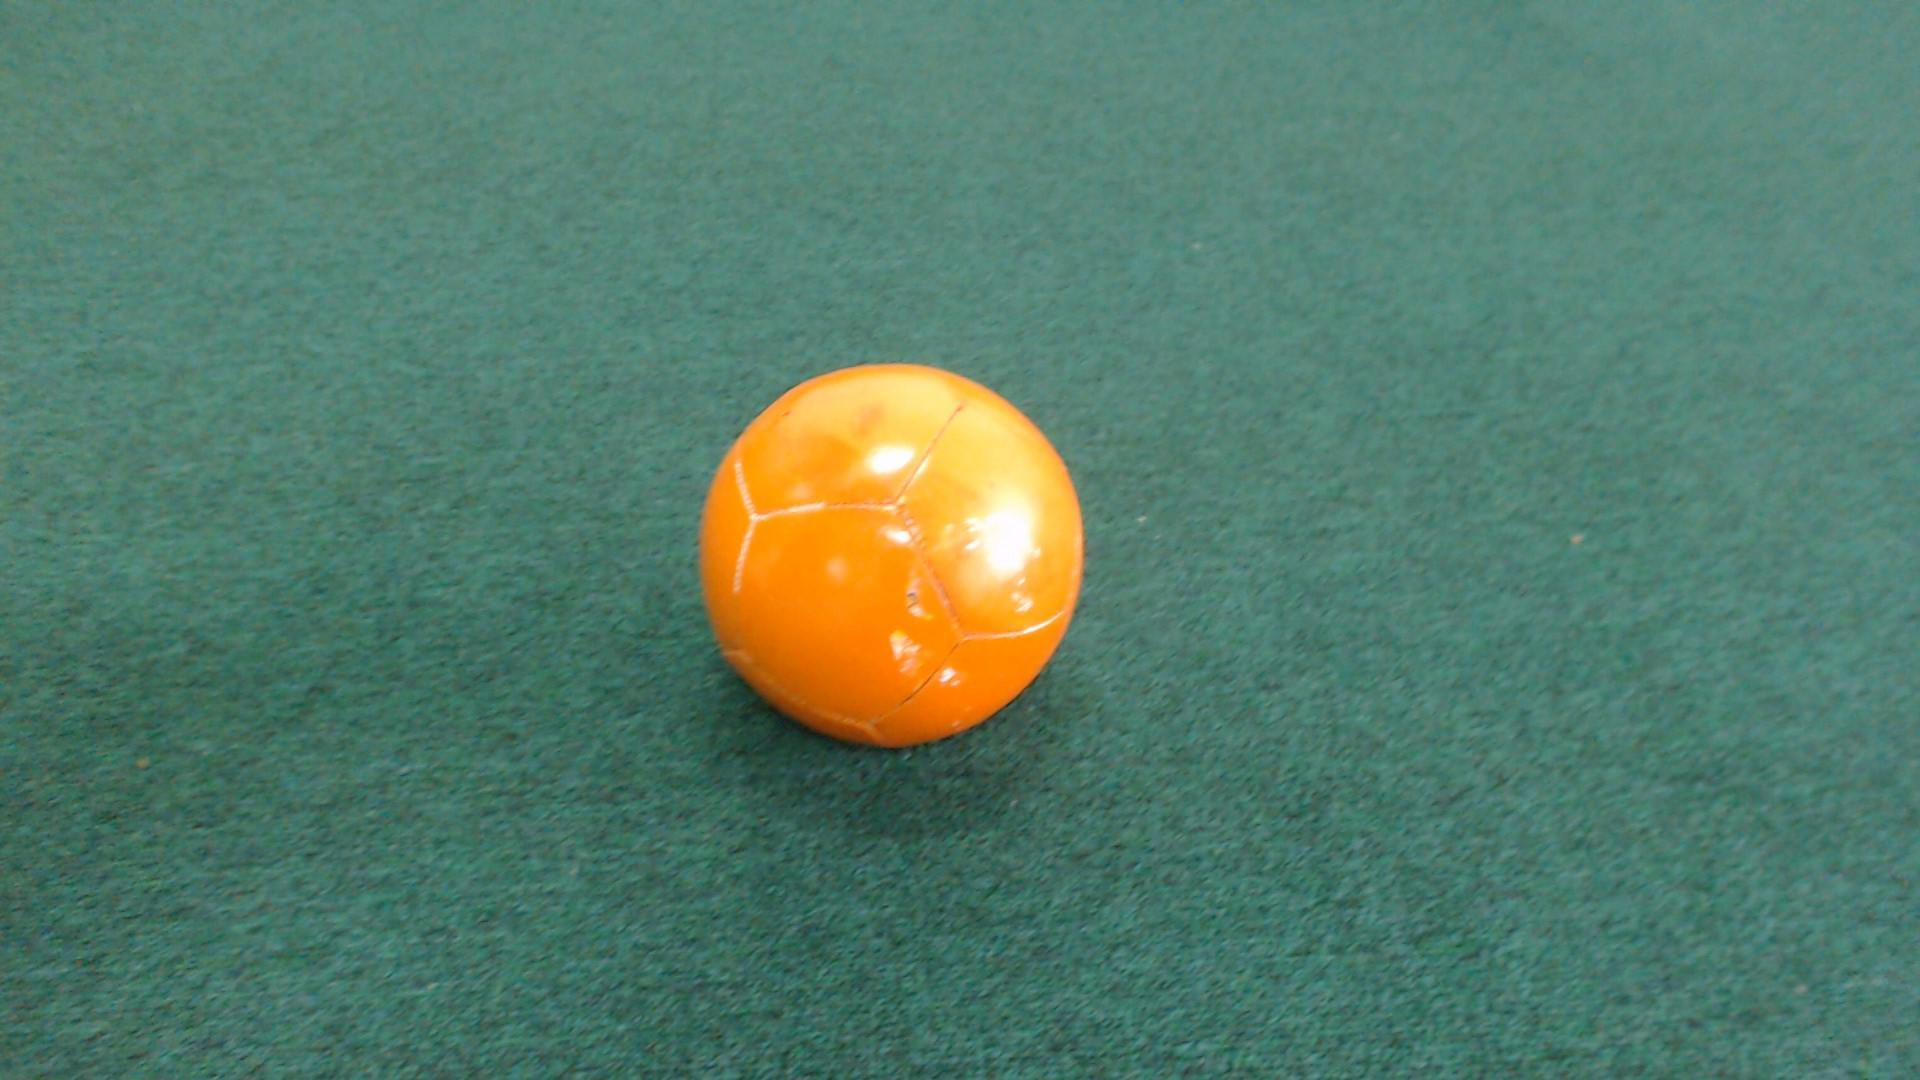bola: (669, 339, 1124, 779)
